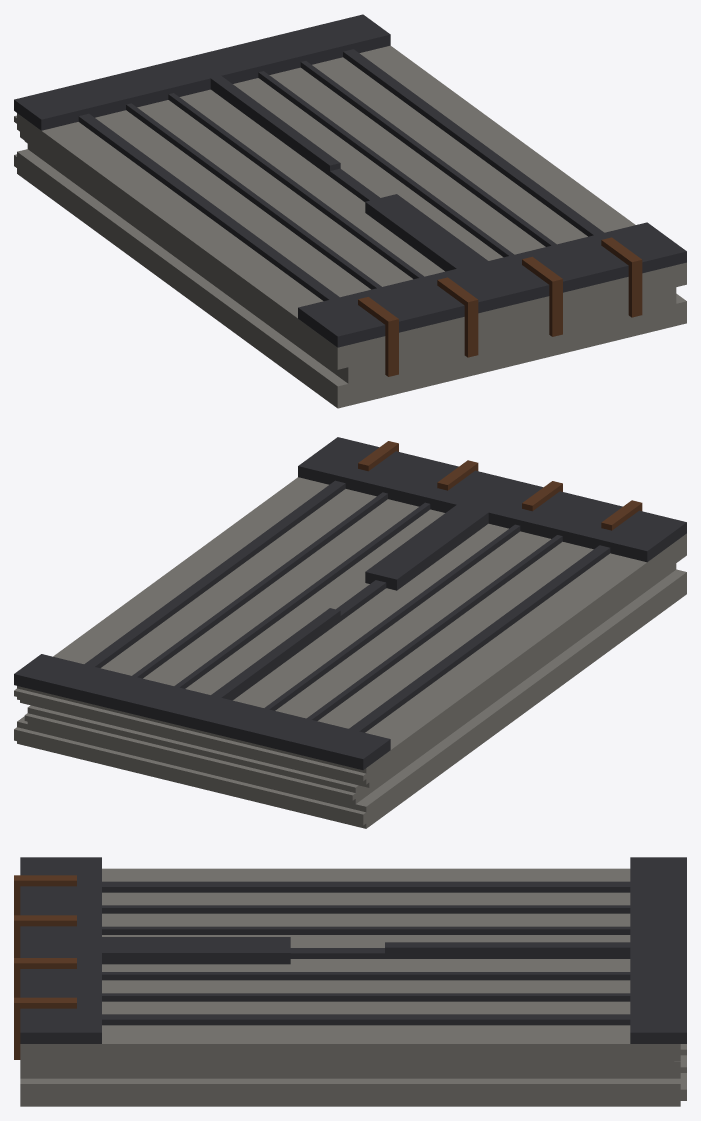
Rendered from aketon_pants_wool.glb.
3 renders of one model, top to bottom at view 1: azimuth 30°, elevation 25°; view 2: azimuth 150°, elevation 25°; view 3: azimuth 270°, elevation 25°, orthographic. The views are drawn at different scales.
Visible parts, largest first — view 1: aketon_pants_wool:compound; view 2: aketon_pants_wool:compound; view 3: aketon_pants_wool:compound.
Part boxes in pixels (x1,y1,x2,y2): aketon_pants_wool:compound: (14,14,686,408); aketon_pants_wool:compound: (14,437,686,828); aketon_pants_wool:compound: (14,857,686,1106).
Size of the model in its own units: 0.264 by 0.056 by 0.428.
